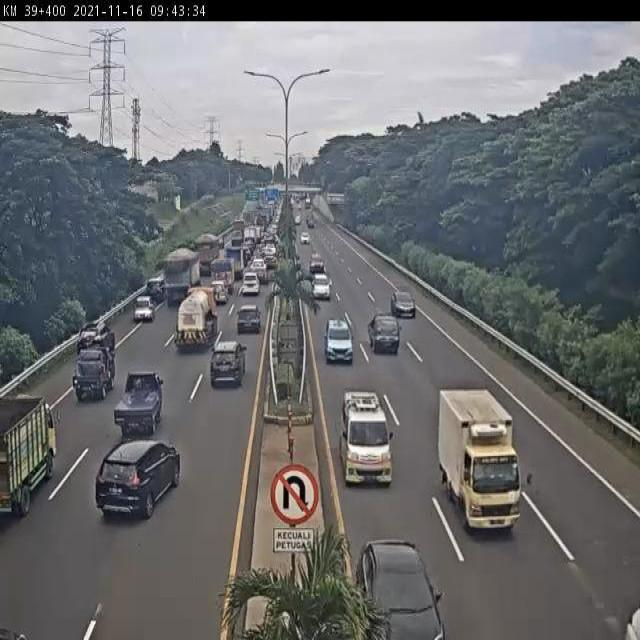car: (94, 438, 182, 522), (341, 388, 395, 489), (112, 373, 166, 440), (68, 348, 110, 399), (206, 342, 246, 394), (325, 318, 357, 366), (367, 314, 402, 354), (76, 323, 116, 356), (233, 304, 263, 339), (389, 291, 417, 320), (131, 297, 157, 327), (136, 281, 165, 307), (241, 272, 263, 300), (208, 281, 229, 308), (313, 272, 333, 299)
small truck: (438, 388, 532, 537), (0, 399, 64, 529)
truck-m-: (170, 284, 219, 355), (159, 249, 200, 311)
